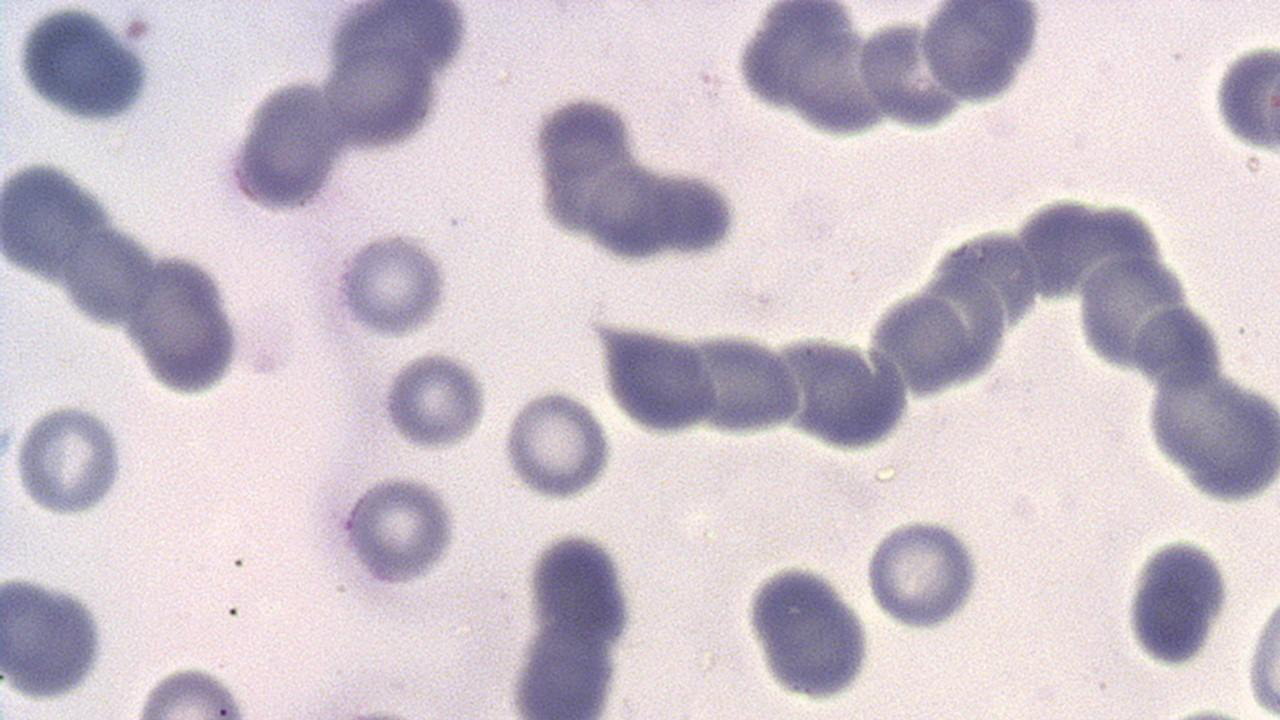Platelets: (739, 557, 875, 705), (1118, 533, 1230, 672), (861, 514, 987, 632), (11, 400, 132, 518), (1211, 36, 1279, 158)
RBC: (1142, 363, 1278, 506), (124, 244, 247, 398), (0, 156, 113, 286), (862, 514, 982, 633), (598, 318, 716, 437), (12, 399, 127, 520), (917, 0, 1044, 109), (317, 43, 444, 151), (333, 230, 453, 340), (686, 326, 801, 440), (337, 476, 458, 584), (501, 386, 612, 503), (502, 620, 622, 720), (126, 660, 258, 717), (1242, 578, 1280, 718)
WBC: (0, 0, 866, 720), (830, 11, 1280, 682), (571, 0, 1160, 330), (644, 0, 1107, 175), (209, 72, 363, 218), (112, 243, 257, 396), (740, 556, 876, 702), (10, 1, 163, 129), (0, 567, 116, 706), (11, 394, 135, 523), (1119, 533, 1233, 673), (0, 154, 116, 290), (524, 526, 641, 654), (918, 2, 1048, 108), (1210, 34, 1280, 163)
